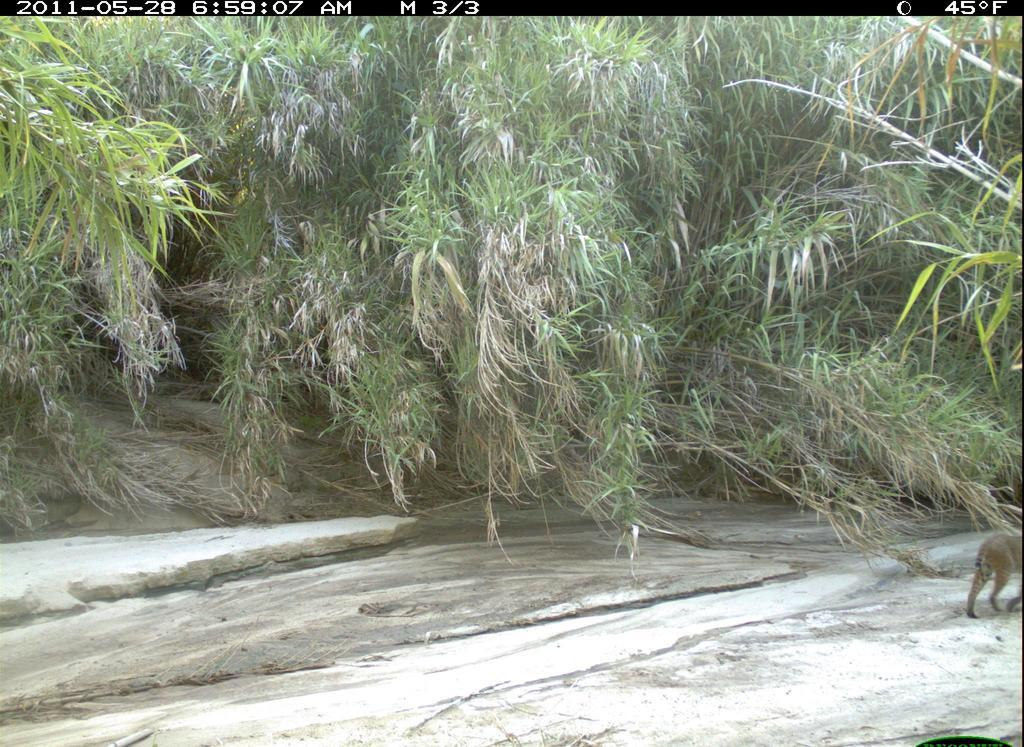bobcat: (963, 519, 1022, 632)
